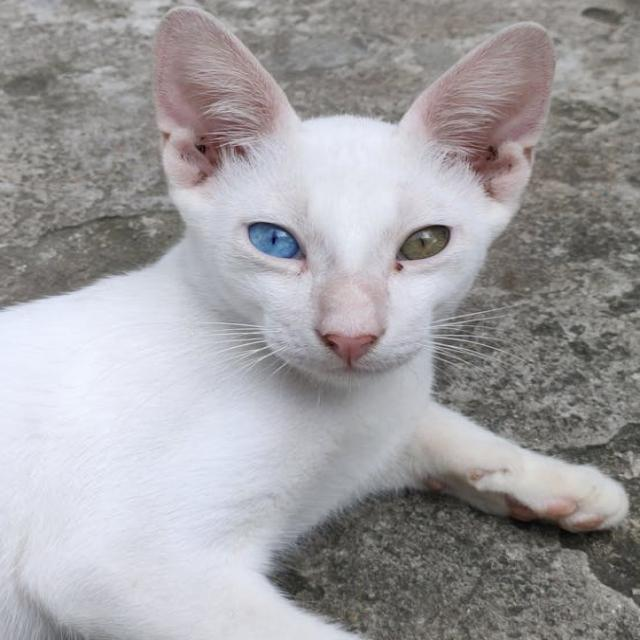Khao Manee: (0, 2, 635, 640)
